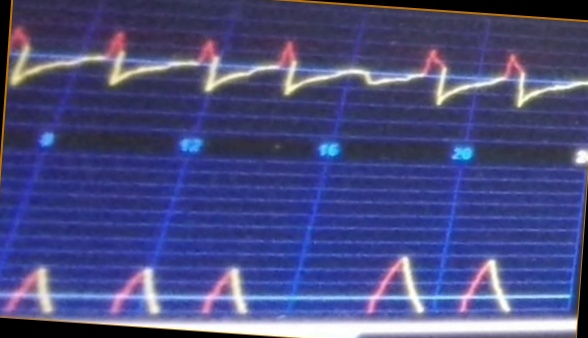Ineffective_effort Flow: (11, 21, 588, 125)
Ineffective_effort Volume: (6, 208, 519, 315)
